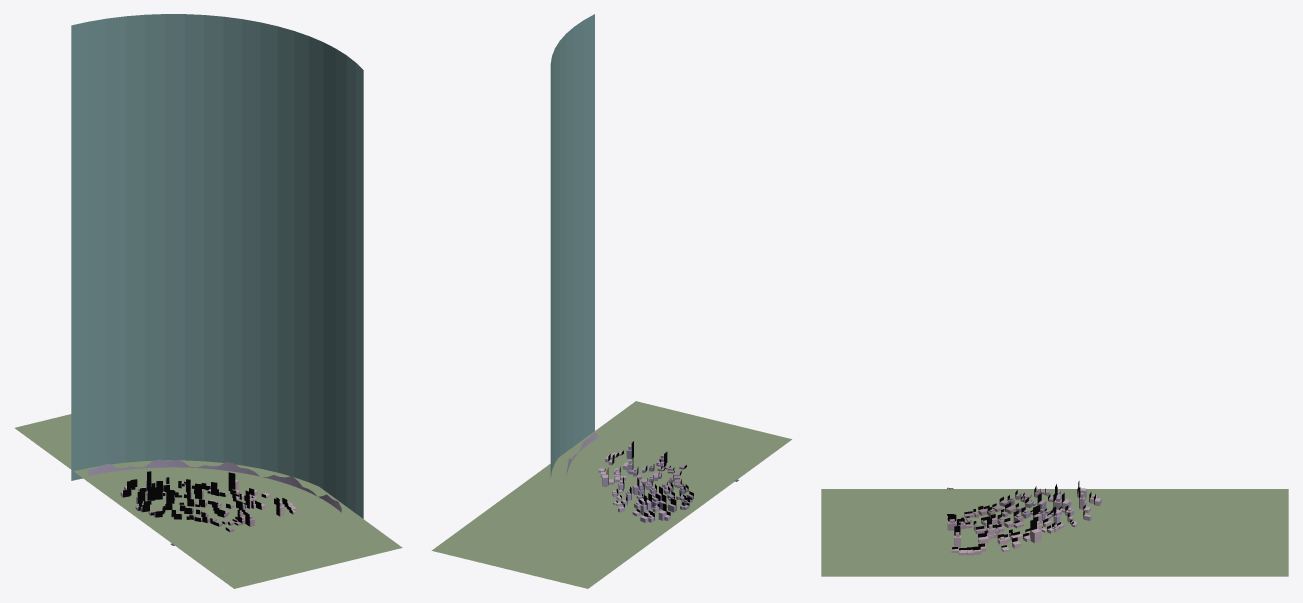
Rendered from desk_scene_draco.glb.
3 views of the same model, side by side, from view 1: azimuth 30°, elevation 25°; view 2: azimuth 150°, elevation 25°; view 3: azimuth 270°, elevation 25° (orthographic). The views are drawn at different scales.
Visible parts, largest first — view 1: Env_WindowSky, Env_Outside_Ground, Env_Outside_CityLights, Env_Outside_Skyline, Env_Outside_Hills; view 2: Env_Outside_Ground, Env_WindowSky, Env_Outside_Skyline, Env_Outside_CityLights; view 3: Env_Outside_Ground, Env_Outside_Skyline, Env_Outside_CityLights.
Boxes of the visible parts, bbox=[...] form: Env_WindowSky: bbox=[71, 14, 363, 518]; Env_Outside_Ground: bbox=[15, 414, 402, 588]; Env_Outside_CityLights: bbox=[123, 471, 292, 531]; Env_Outside_Skyline: bbox=[120, 478, 296, 532]; Env_Outside_Hills: bbox=[88, 459, 341, 512]; Env_Outside_Ground: bbox=[431, 401, 791, 588]; Env_WindowSky: bbox=[550, 14, 594, 477]; Env_Outside_Skyline: bbox=[598, 445, 693, 522]; Env_Outside_CityLights: bbox=[604, 441, 693, 520]; Env_Outside_Ground: bbox=[821, 489, 1288, 576]; Env_Outside_Skyline: bbox=[947, 488, 1101, 555]; Env_Outside_CityLights: bbox=[947, 481, 1095, 550].
Size of the model in its own units: 1203 by 2975 by 2600.
